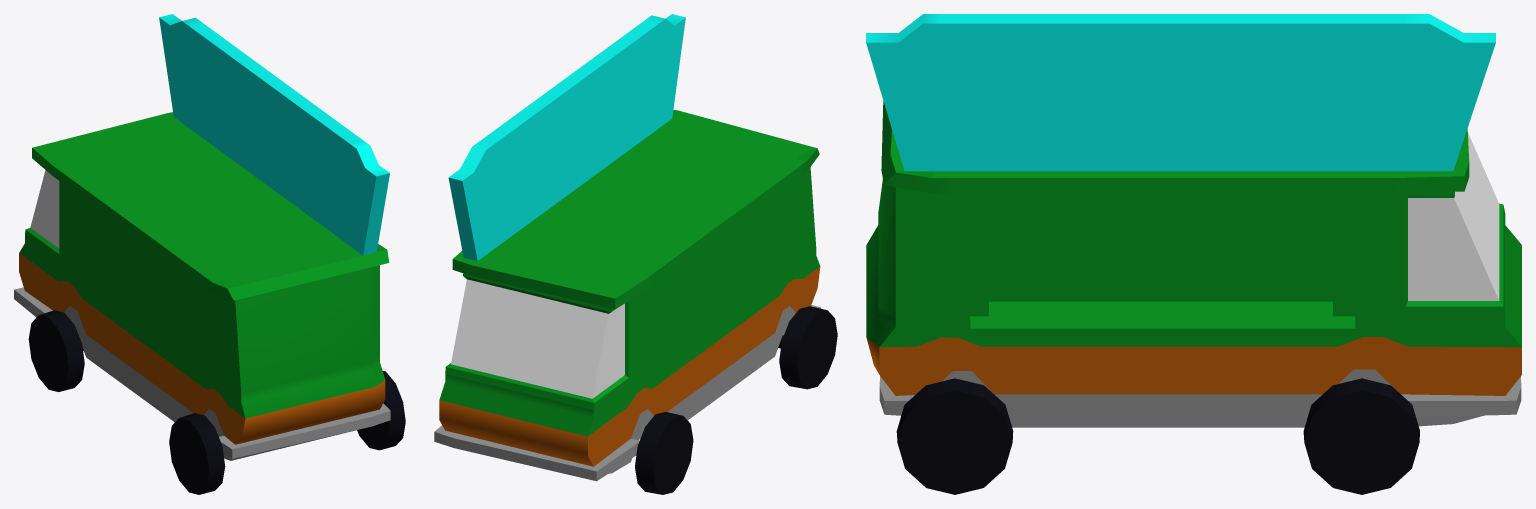
Rendered from MOD_TruckFoodB.FBX.
The picture shows the model from 3 angles, left to right: view 1: azimuth 30°, elevation 25°; view 2: azimuth 150°, elevation 25°; view 3: azimuth 270°, elevation 25°; orthographic projection. The views are drawn at different scales.
Parts seen in each view (by area): view 1: Box002; view 2: Box002; view 3: Box002.
Part boxes in pixels (bbox=[...]): Box002: bbox=[14, 14, 405, 494]; Box002: bbox=[434, 14, 837, 494]; Box002: bbox=[866, 14, 1521, 494].
Bounding box in the file's own units: 119 × 179 × 235.
